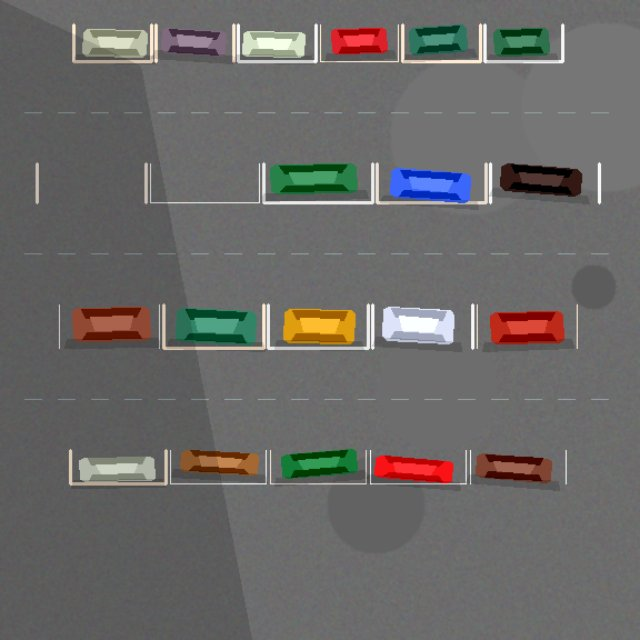space-empty: (37, 163, 146, 202), (150, 163, 259, 202)
space-occupied: (59, 304, 159, 348), (163, 304, 263, 348), (268, 304, 368, 348), (372, 304, 472, 348), (477, 304, 577, 348), (263, 163, 372, 202), (377, 163, 486, 202), (490, 163, 599, 202), (70, 450, 166, 483), (170, 450, 266, 483), (270, 450, 366, 483), (370, 450, 466, 483), (470, 450, 566, 483), (73, 24, 151, 61), (238, 24, 316, 61), (320, 24, 398, 61), (402, 24, 480, 61), (484, 24, 562, 61), (156, 24, 233, 61)
